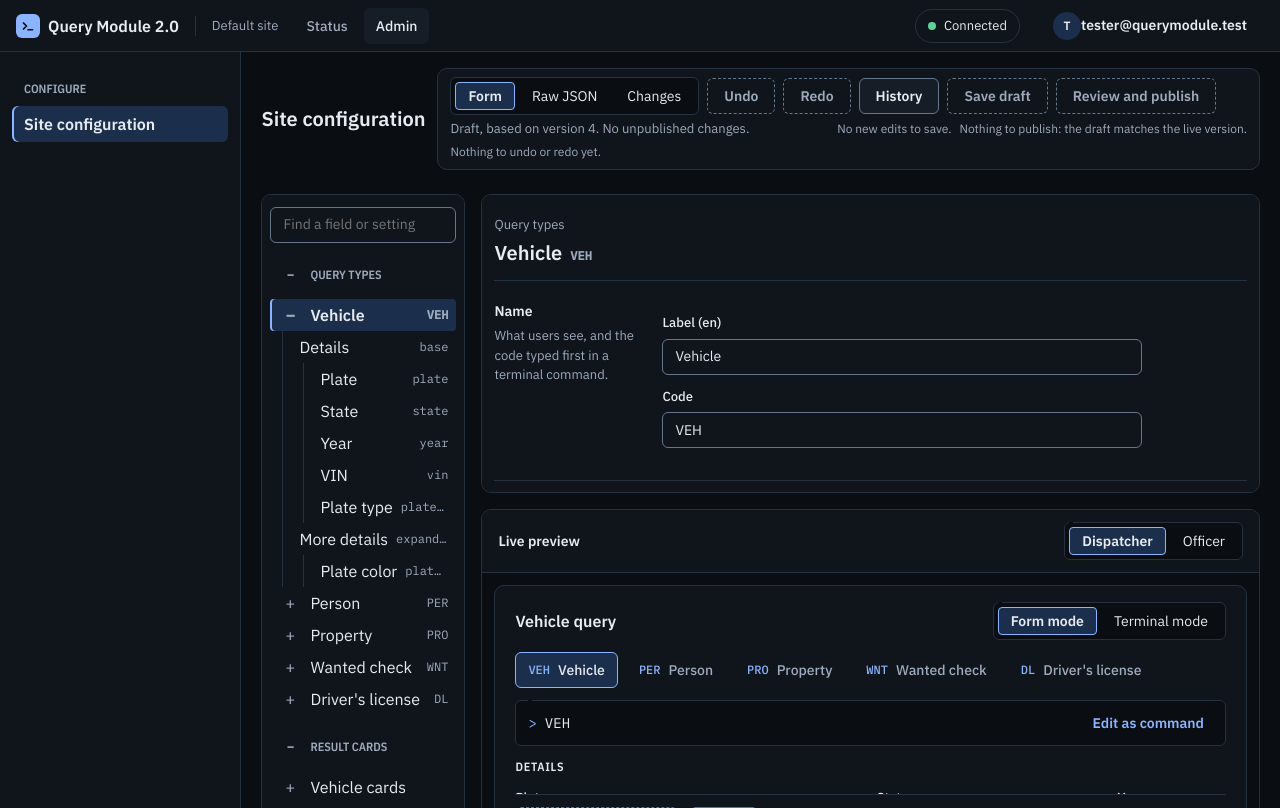
the history drawer › a failed load says so and offers Try again
Expected: the tab "Form" is shown, [456,82,515,110]
Click the button "History" at (899, 96), box [859,78,939,114]
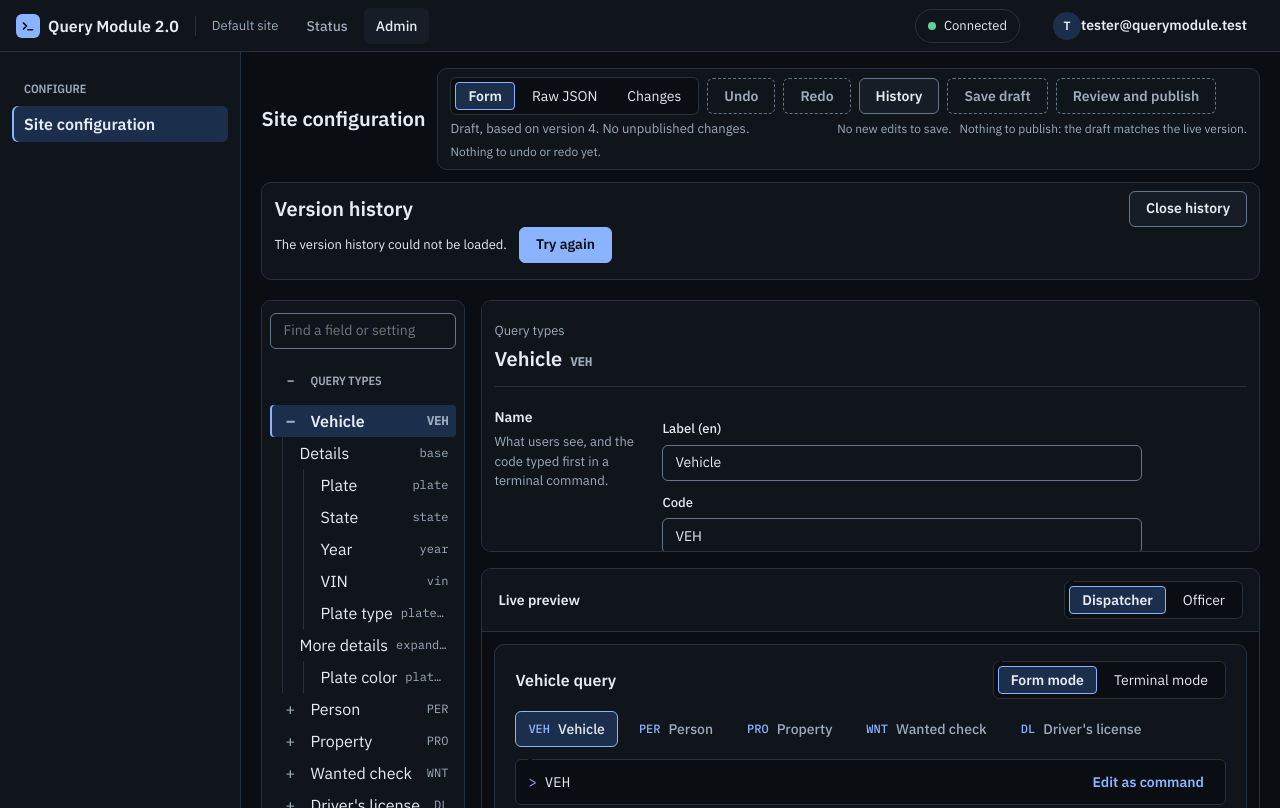
Expected: the text "The version history could not be loaded." is shown, [274,235,507,254]
Click the button "Try again" at (565, 244), box [519,226,612,262]
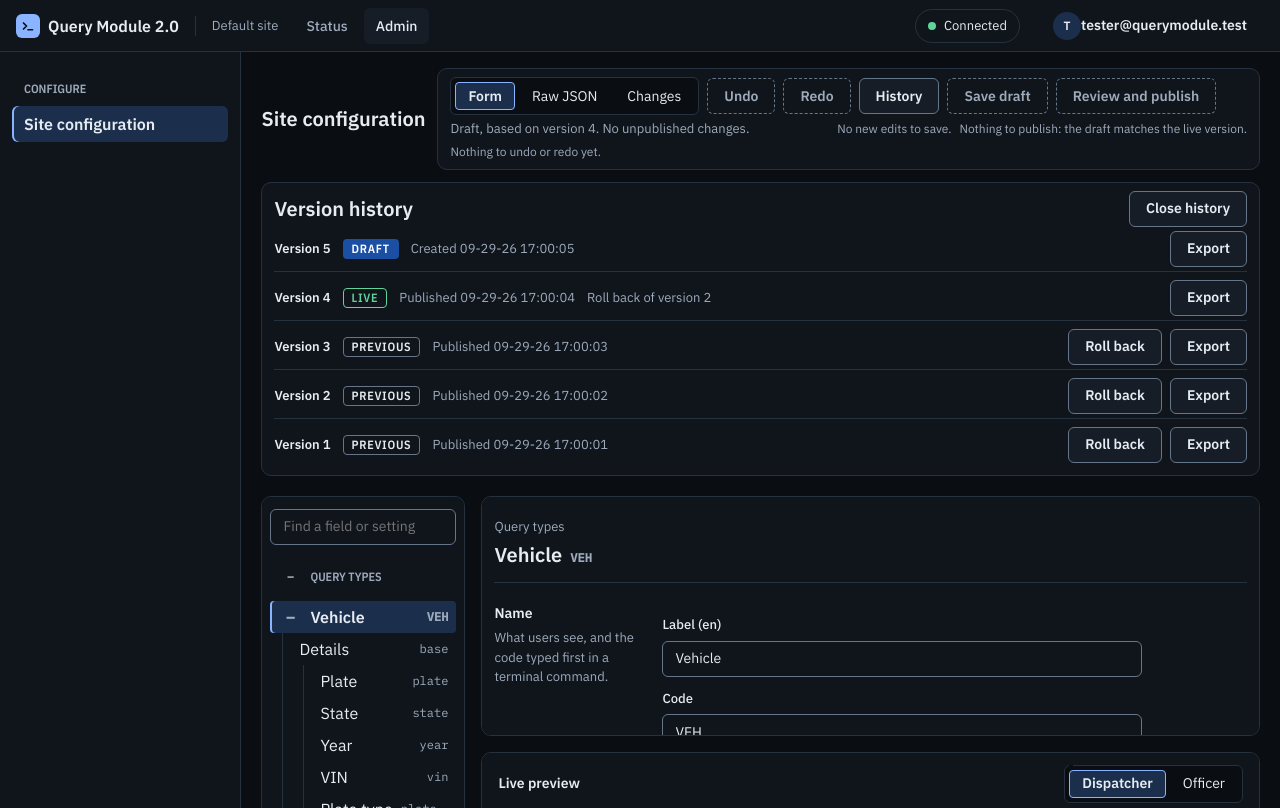
Expected: the text "Version 5" is shown, [274,239,330,258]
